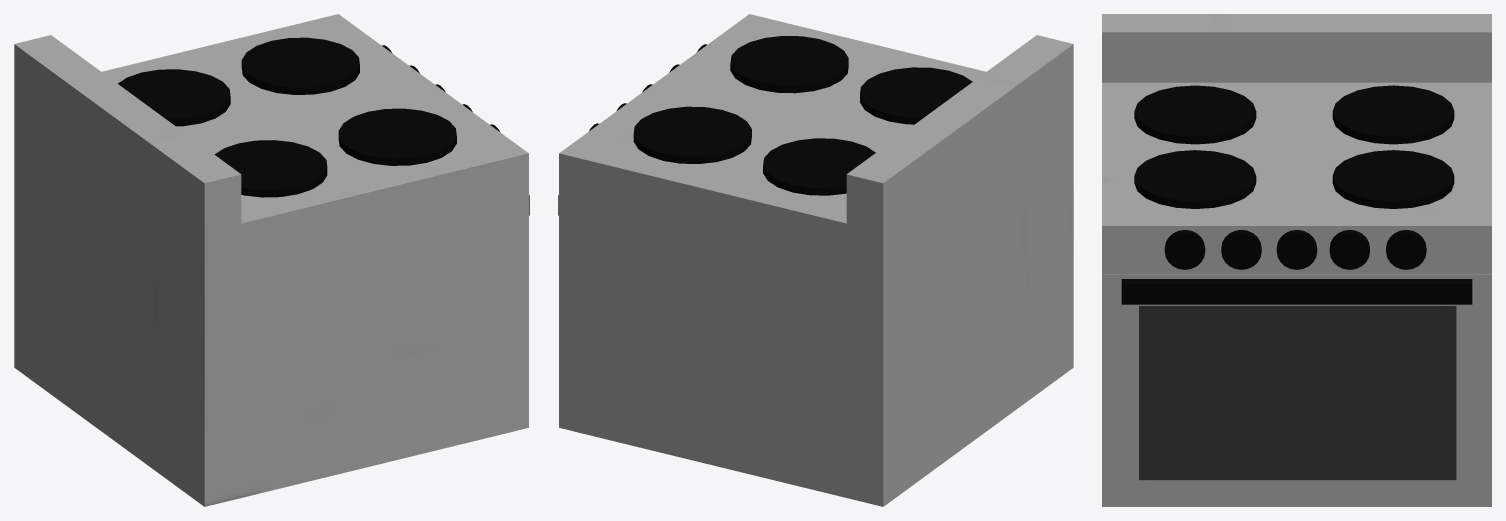
Rendered from stove.dae.
3 renders of one model, left to right at view 1: azimuth 30°, elevation 25°; view 2: azimuth 150°, elevation 25°; view 3: azimuth 270°, elevation 25°, orthographic. The views are drawn at different scales.
Visible parts, largest first — view 1: stove, dooroff; view 2: stove, dooroff; view 3: stove, dooroff.
Boxes of the visible parts, left/top/right/bottom form: stove: left=14, top=14, right=528, bottom=506; dooroff: left=515, top=195, right=529, bottom=430; stove: left=559, top=14, right=1073, bottom=506; dooroff: left=558, top=195, right=572, bottom=430; stove: left=1102, top=14, right=1491, bottom=274; dooroff: left=1102, top=274, right=1491, bottom=506.
Bounding box in the file's own units: 3.41 × 3.36 × 3.15.
